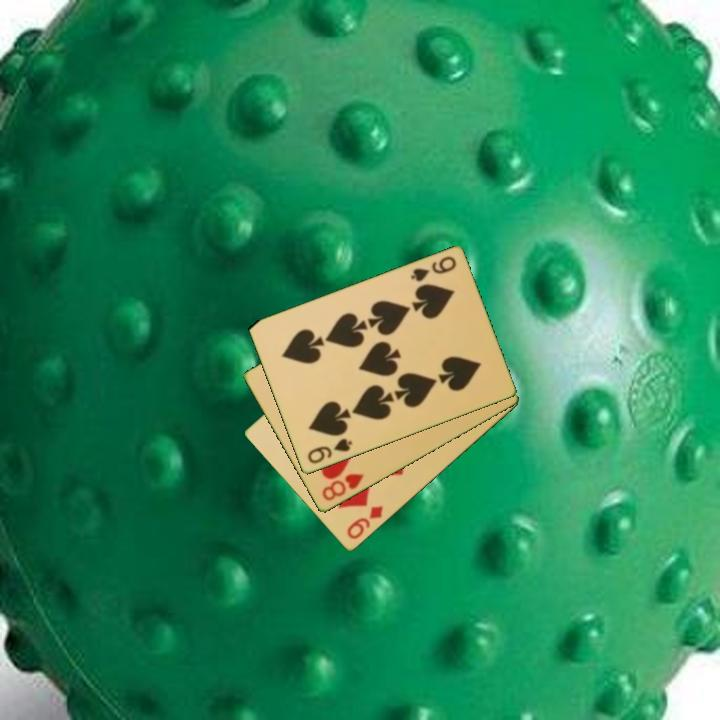8h: (318, 470, 366, 504)
9d: (343, 502, 386, 543)
9s: (407, 253, 459, 285), (304, 435, 355, 467)
